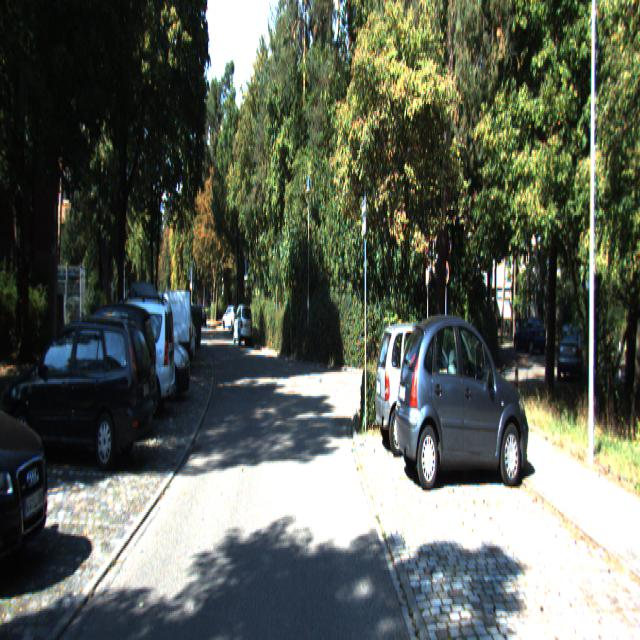Car: (394, 308, 530, 496), (5, 311, 155, 479), (0, 313, 64, 603), (373, 316, 480, 461), (72, 296, 176, 429), (115, 290, 192, 417), (131, 292, 192, 382), (233, 307, 253, 350)
